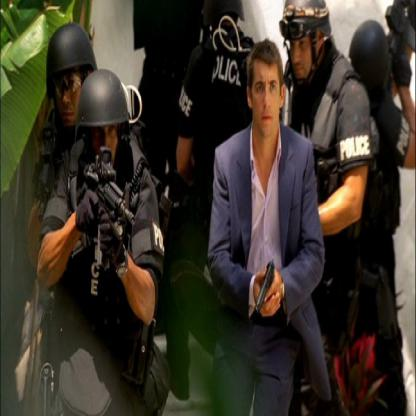Guns: (74, 142, 135, 273), (360, 257, 398, 347), (384, 0, 416, 89), (32, 110, 53, 228), (252, 258, 277, 316)
